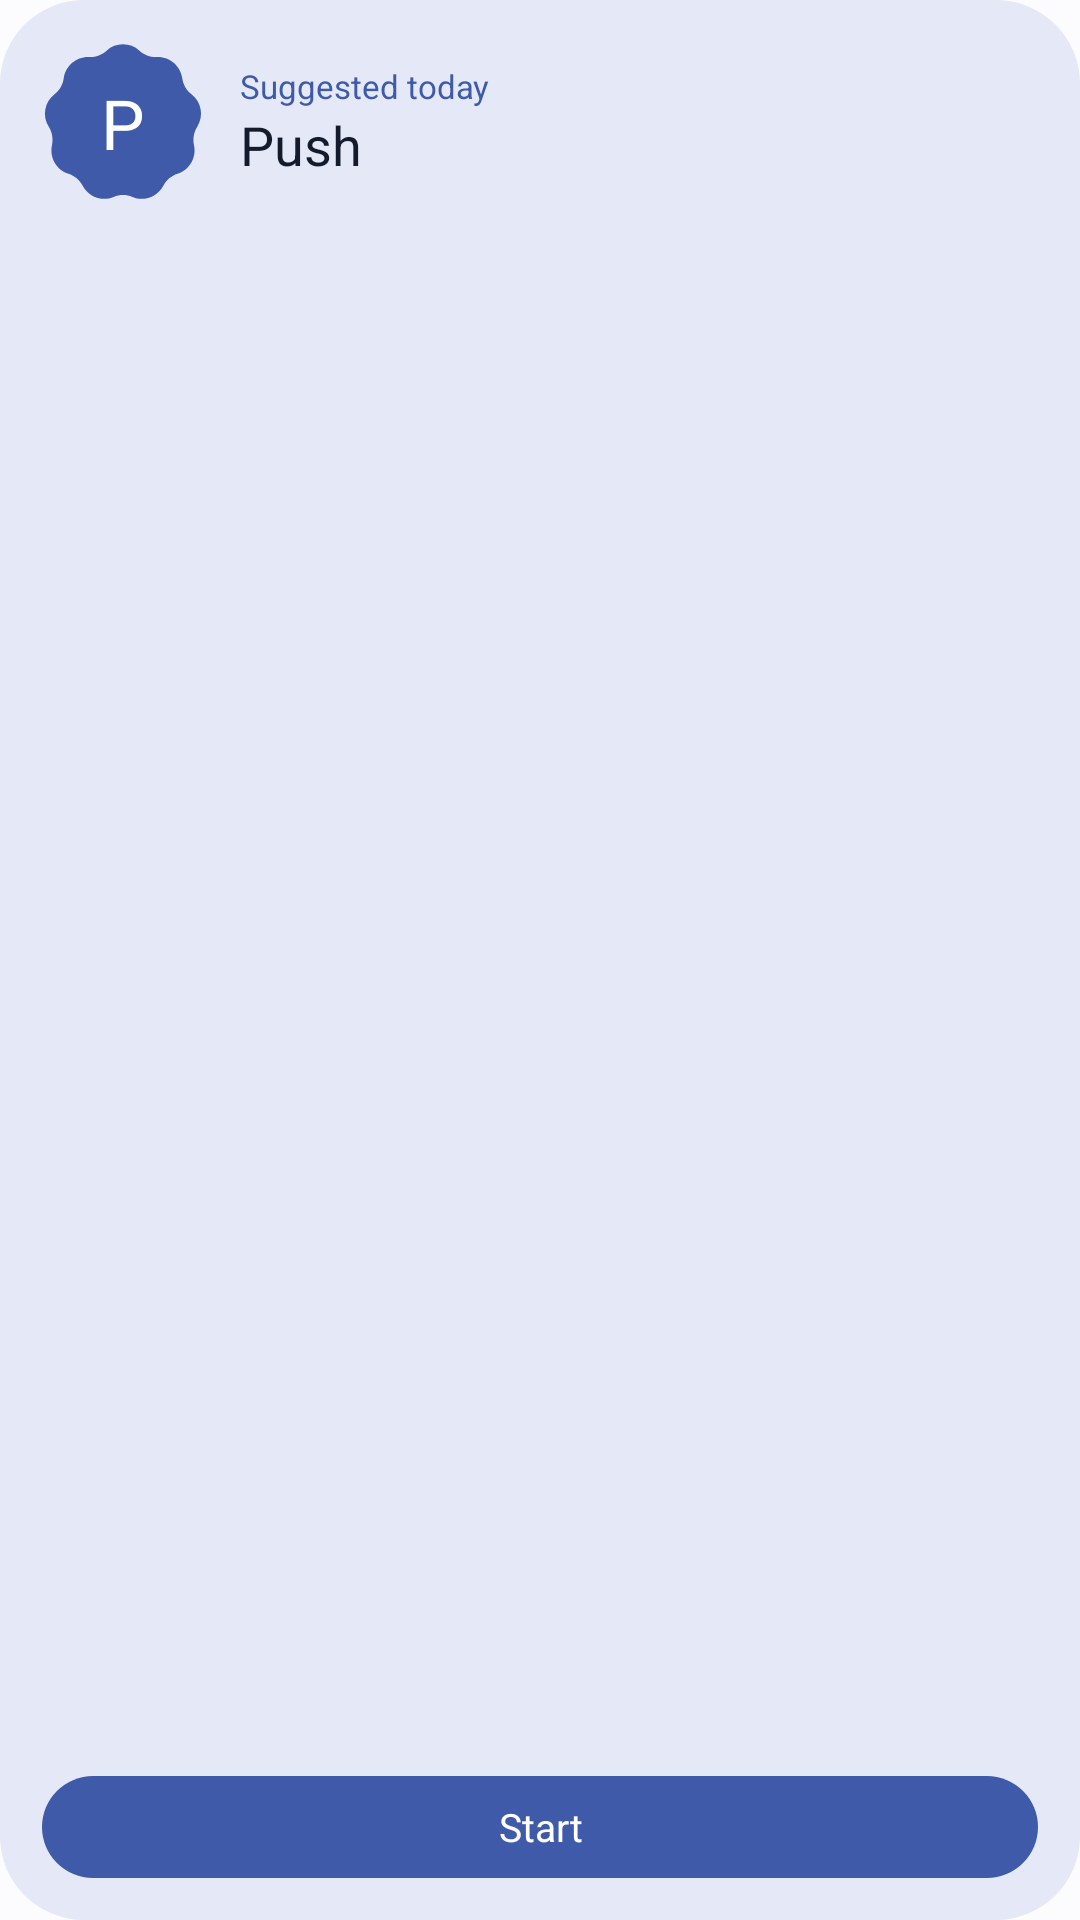

Icons on this 1080 x 1920 Android screen, each with its box as (x1, y1, x2, y2):
widget shape cookie: (45, 44, 201, 199)
